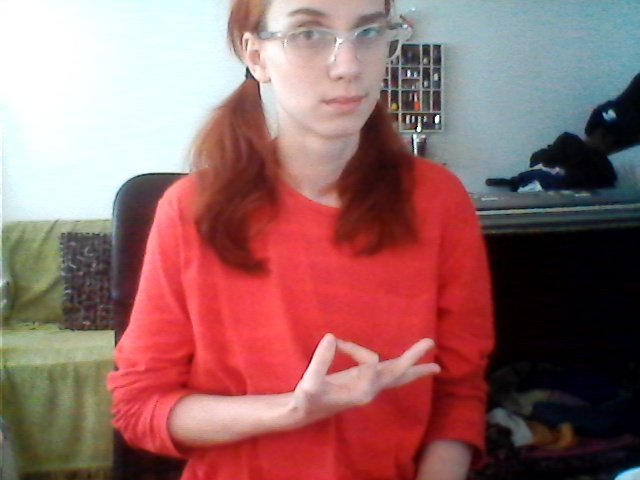co: (284, 322, 441, 414)
